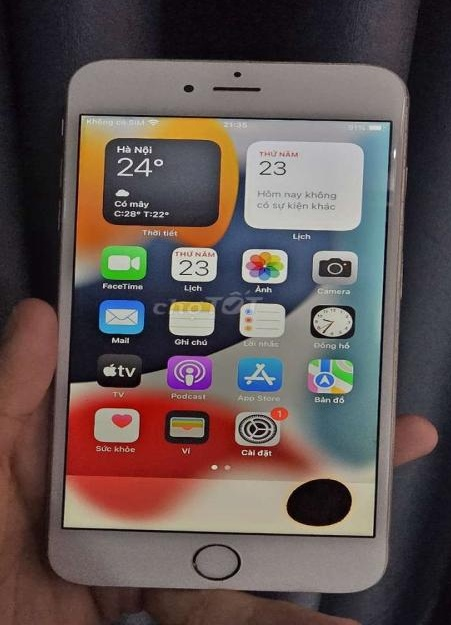screen_defect: (271, 461, 368, 533)
